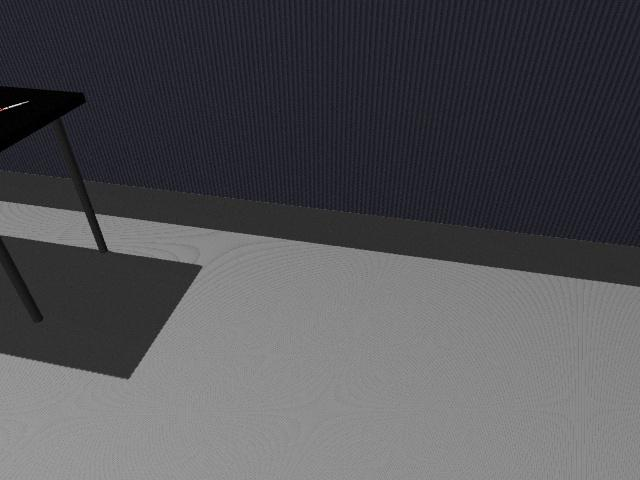scissors: (0, 101, 30, 113)
